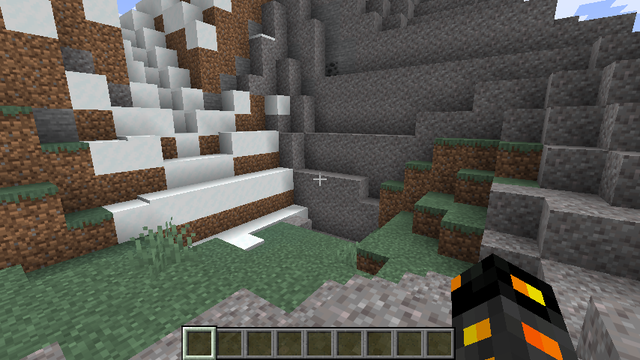coal: (323, 62, 339, 78)
